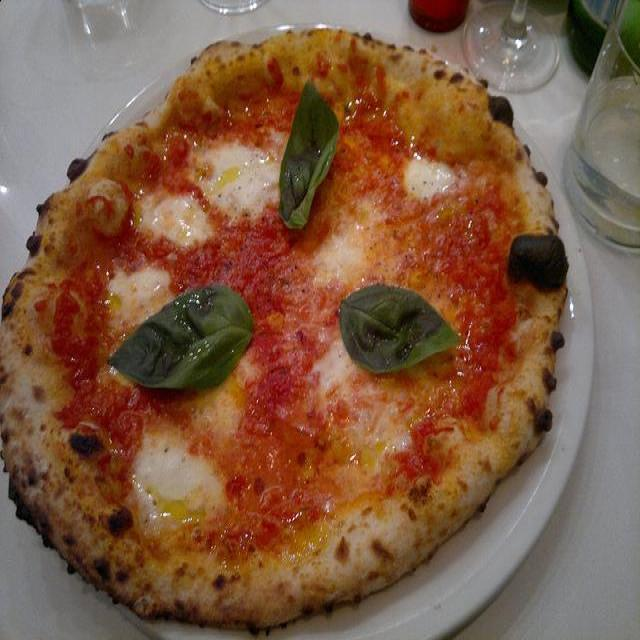cup: (562, 0, 640, 257)
diningtable: (0, 1, 640, 640)
pizza: (0, 19, 566, 629)
wine glass: (462, 4, 560, 97)
